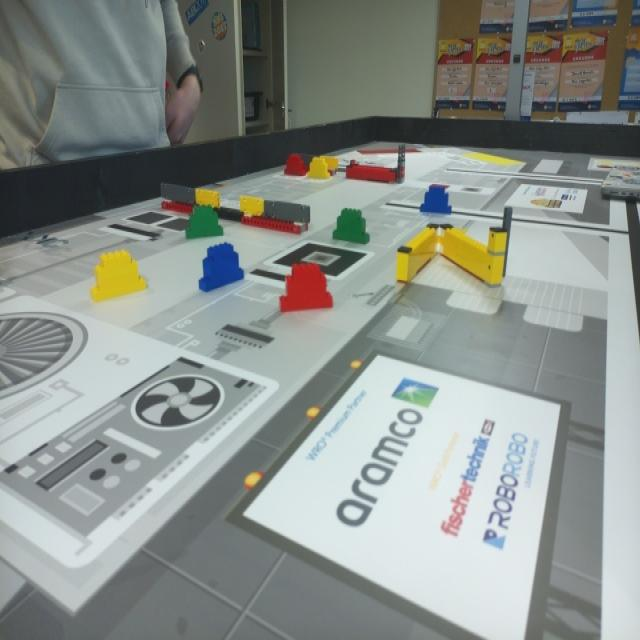blau: (200, 245, 242, 292), (419, 189, 453, 214)
gruen: (332, 205, 372, 244), (187, 205, 223, 240)
rot: (280, 264, 334, 312), (285, 156, 304, 174)
yellow: (93, 249, 145, 301), (303, 160, 330, 179)
